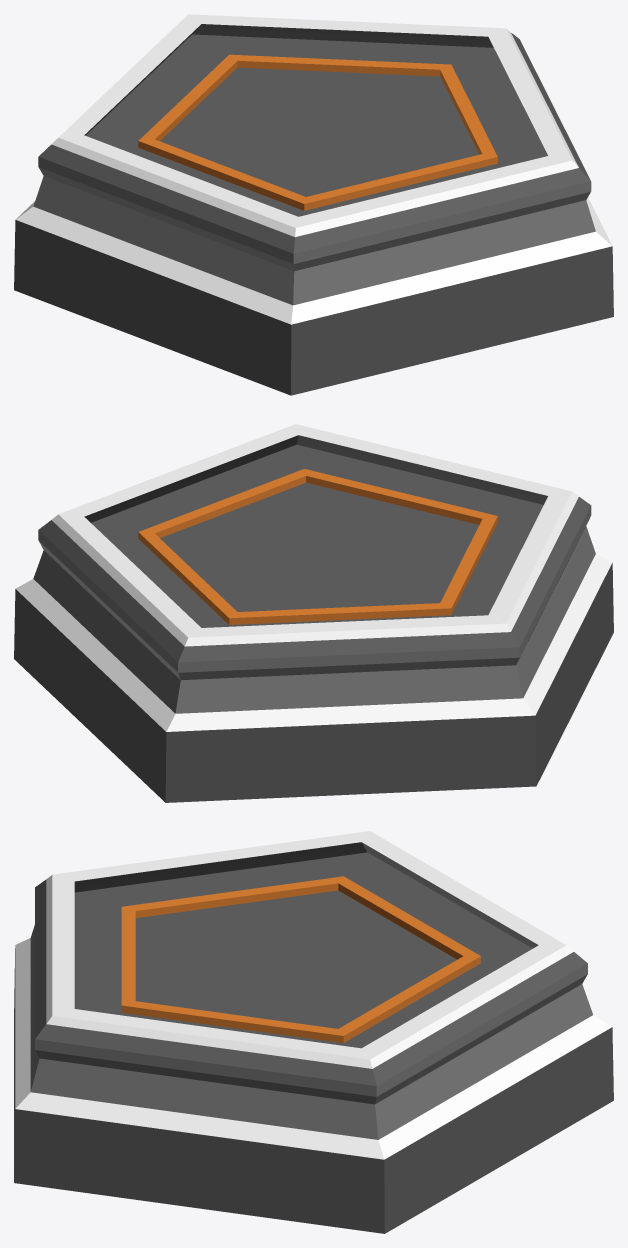
File: PlatformRocket.fbx
3 views of the same model, one above another, from view 1: azimuth 30°, elevation 25°; view 2: azimuth 150°, elevation 25°; view 3: azimuth 270°, elevation 25° (orthographic). The views are drawn at different scales.
Parts seen in each view (by area): view 1: Círculo; view 2: Círculo; view 3: Círculo.
Boxes of the visible parts, box(x1,y1,x2,y2) form: Círculo: box(14, 14, 613, 395); Círculo: box(14, 424, 613, 802); Círculo: box(14, 831, 613, 1233).
Bounding box in the file's own units: 20.45 × 5.56 × 19.45.
